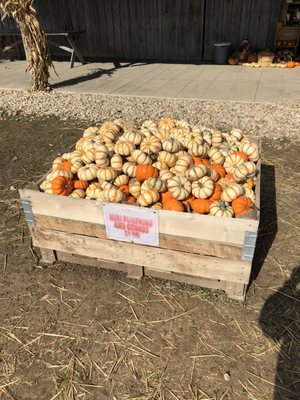pizza: (0, 0, 54, 92)
